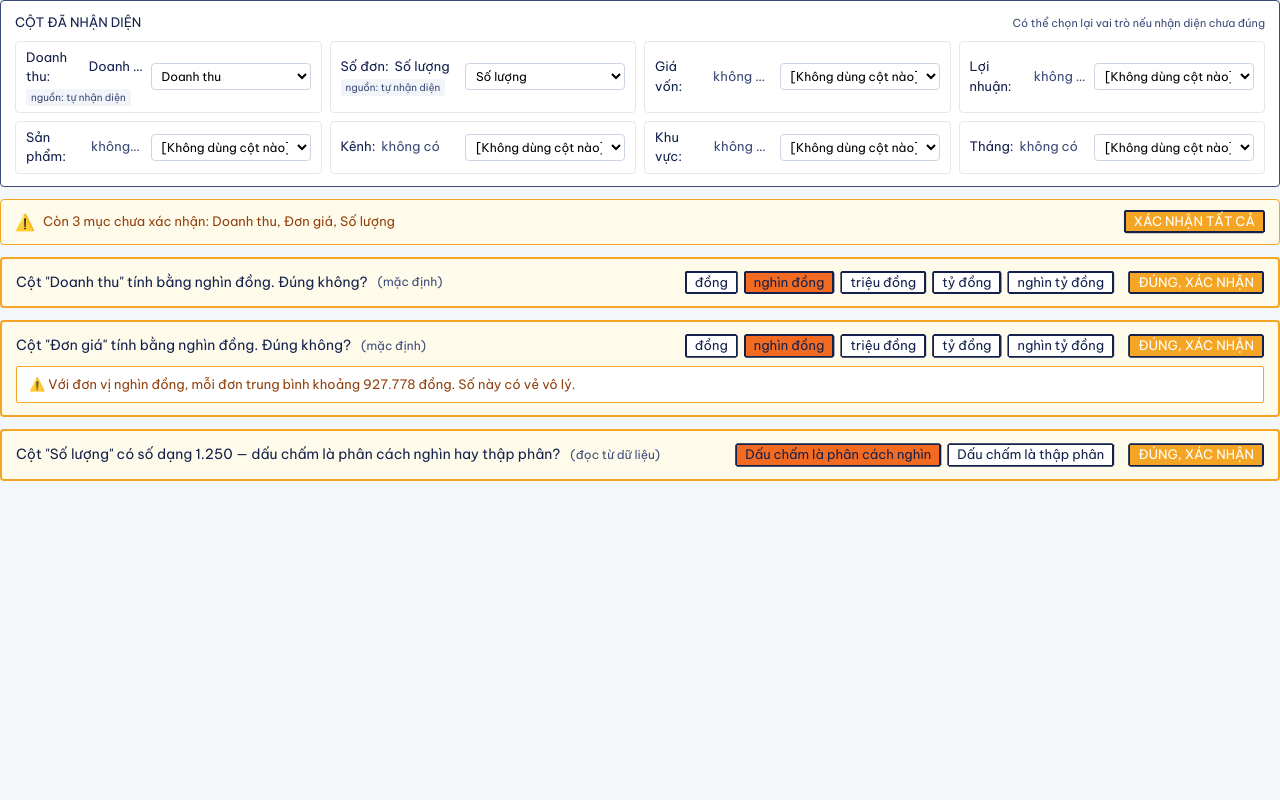
Test case: Prompt 1C-2a-UI Verification Suite (Phần C & E1) › 3. "XÁC NHẬN TẤT CẢ" Button & Warning Skip (C3) › confirms normal rows but SKIPS rows with unit_suspicious and shows warning notice
This screenshot has width=1280, height=800.
// Click "XÁC NHẬN TẤT CẢ"
Click the button "XÁC NHẬN TẤT CẢ" at (1194, 222), box [1124, 210, 1265, 233]
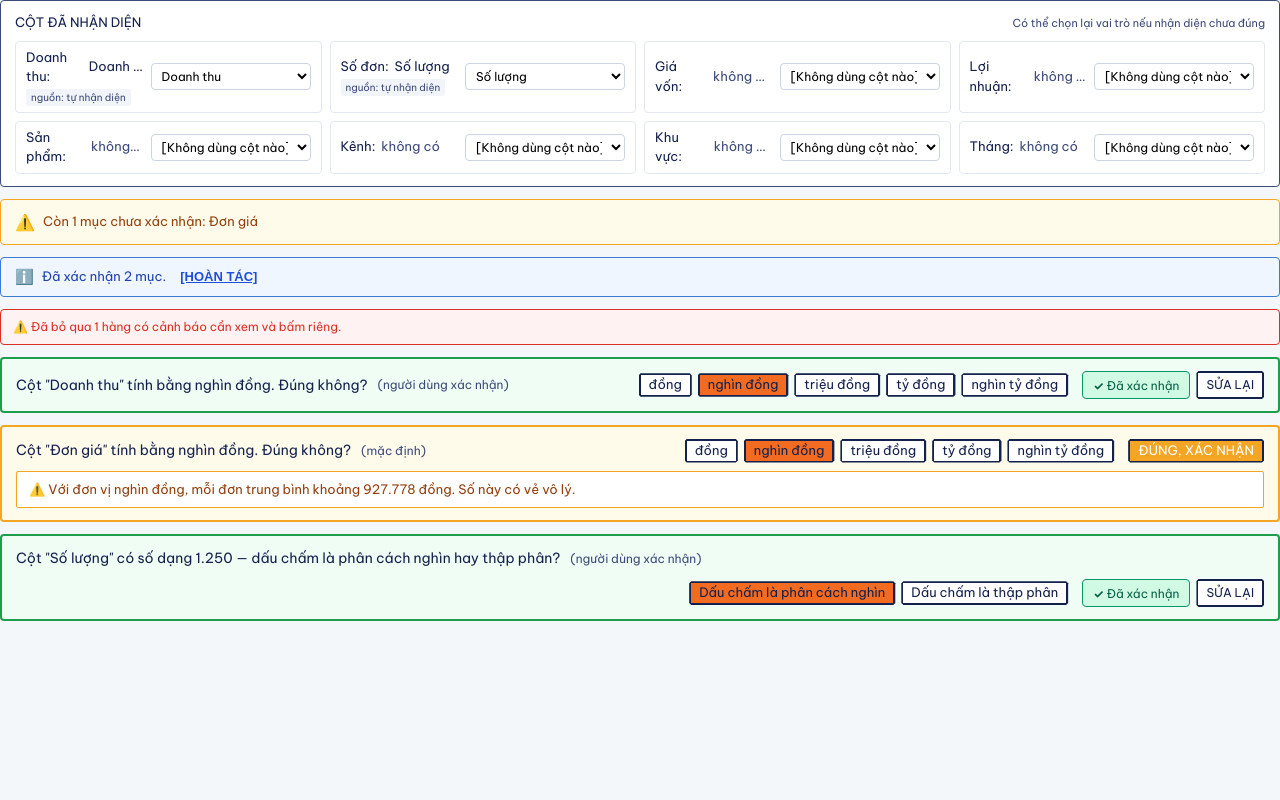
Check: the number of buttons "✓ Đã xác nhận" is 2, box [1082, 371, 1190, 399]; [1082, 579, 1190, 607]
Check: the number of buttons "ĐÚNG, XÁC NHẬN" is 1, box [1128, 439, 1264, 463]
Check: the text "⚠️ Đã bỏ qua 1 hàng có cảnh báo cần xem và bấm riêng." is shown, box [0, 309, 1279, 345]
